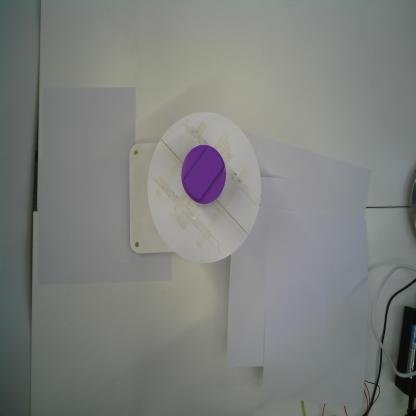Canned Food: (180, 142, 228, 206)
